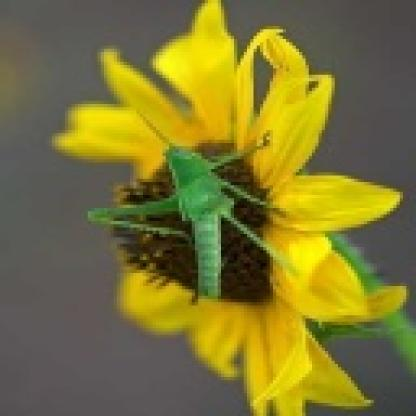grasshopper: (93, 117, 287, 302)
